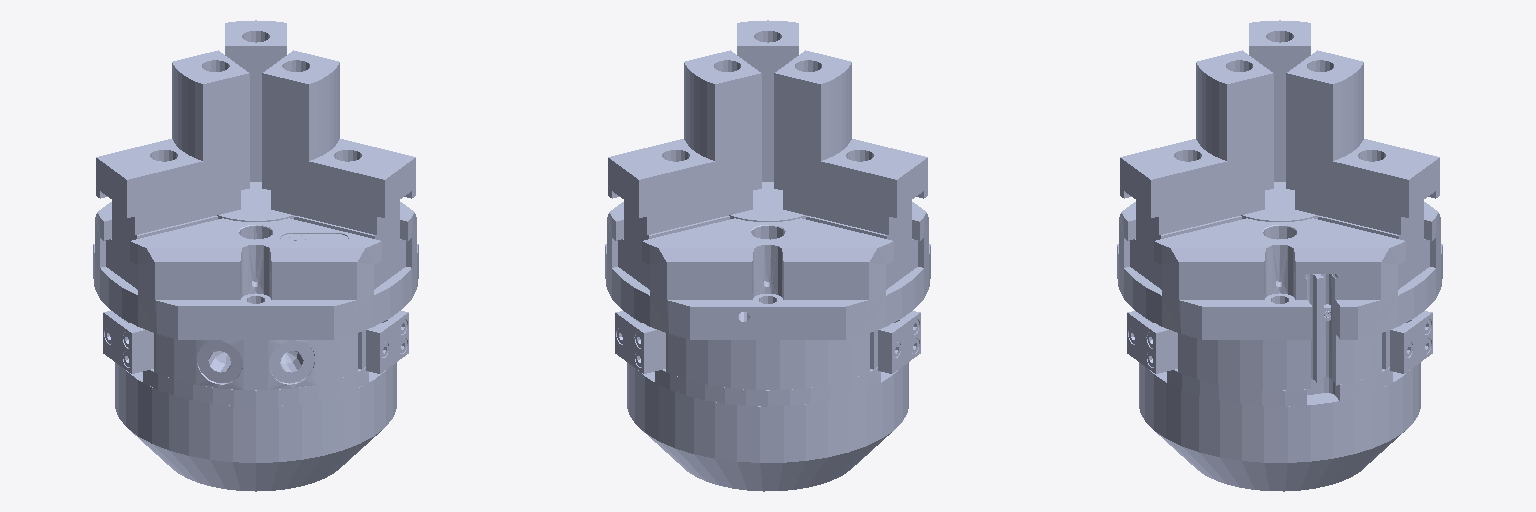
URDF robot description (Gripper2):
<?xml version="1.0"?>
<robot
  name="Gripper2">
  <link
    name="base_link">
    <inertial>
      <origin
        xyz="-0.00018381429775776 -1.12295880039248E-07 0.0491407595300528"
        rpy="0 0 0" />
      <mass
        value="0.670577926069558" />
      <inertia
        ixx="0.000364869467999578"
        ixy="-3.06546854671999E-08"
        ixz="2.0254723799717E-06"
        iyy="0.00036486341299996"
        iyz="-1.06002278351788E-07"
        izz="2.18826103188424E-05" />
    </inertial>
    <visual>
      <origin
        xyz="0 0 0"
        rpy="0 0 0" />
      <geometry>
        <mesh
          filename="package://Gripper2/meshes/base_link.STL" />
      </geometry>
      <material
        name="">
        <color
          rgba="0.792156862745098 0.819607843137255 0.933333333333333 1" />
      </material>
    </visual>
    <collision>
      <origin
        xyz="0 0 0"
        rpy="0 0 0" />
      <geometry>
        <mesh
          filename="package://Gripper2/meshes/base_link.STL" />
      </geometry>
    </collision>
  </link>
  <link
    name="Mors_prismatic1_Link">
    <inertial>
      <origin
        xyz="0.00925 0.0095206 0.0097917"
        rpy="0 0 0" />
      <mass
        value="0.05231" />
      <inertia
        ixx="1.8004E-05"
        ixy="6.4269E-20"
        ixz="-3.3881E-21"
        iyy="8.7579E-08"
        iyz="8.9191E-07"
        izz="1.7917E-05" />
    </inertial>
    <visual>
      <origin
        xyz="0 0 0"
        rpy="0 0 0" />
      <geometry>
        <mesh
          filename="package://Gripper2/meshes/Mors_prismatic1_Link.STL" />
      </geometry>
      <material
        name="">
        <color
          rgba="0.79216 0.81961 0.93333 1" />
      </material>
    </visual>
    <collision>
      <origin
        xyz="0 0 0"
        rpy="0 0 0" />
      <geometry>
        <mesh
          filename="package://Gripper2/meshes/Mors_prismatic1_Link.STL" />
      </geometry>
    </collision>
  </link>
  <joint
    name="Mors_prismatic1_joint"
    type="prismatic">
    <origin
      xyz="0.0014158 -0.020952 0.0995"
      rpy="1.5708 0 0.5236" />
    <parent
      link="base_link" />
    <child
      link="Mors_prismatic1_Link" />
    <axis
      xyz="0 0 1" />
    <limit
      lower="0"
      upper="1"
      effort="100"
      velocity="10" />
    <calibration
      rising="0"
      falling="0" />
    <dynamics
      damping="0"
      friction="0" />
    <safety_controller
      soft_upper="0"
      soft_lower="0"
      k_position="0"
      k_velocity="0" />
  </joint>
  <link
    name="Mors_prismatic2_Link">
    <inertial>
      <origin
        xyz="0.00925 0.0095206 0.0097917"
        rpy="0 0 0" />
      <mass
        value="0.05231" />
      <inertia
        ixx="1.8004E-05"
        ixy="6.9606E-20"
        ixz="-4.6684E-21"
        iyy="8.7579E-08"
        iyz="8.9191E-07"
        izz="1.7917E-05" />
    </inertial>
    <visual>
      <origin
        xyz="0 0 0"
        rpy="0 0 0" />
      <geometry>
        <mesh
          filename="package://Gripper2/meshes/Mors_prismatic2_Link.STL" />
      </geometry>
      <material
        name="">
        <color
          rgba="0.79216 0.81961 0.93333 1" />
      </material>
    </visual>
    <collision>
      <origin
        xyz="0 0 0"
        rpy="0 0 0" />
      <geometry>
        <mesh
          filename="package://Gripper2/meshes/Mors_prismatic2_Link.STL" />
      </geometry>
    </collision>
  </link>
  <joint
    name="Mors_prismatic2_joint"
    type="prismatic">
    <origin
      xyz="0.017437 0.011702 0.0995"
      rpy="1.5708 0 2.618" />
    <parent
      link="base_link" />
    <child
      link="Mors_prismatic2_Link" />
    <axis
      xyz="0 0 1" />
    <limit
      lower="0"
      upper="1"
      effort="100"
      velocity="10" />
  </joint>
  <link
    name="Mors_prismatic3_Link">
    <inertial>
      <origin
        xyz="0.00925 0.0095206 0.0097917"
        rpy="0 0 0" />
      <mass
        value="0.05231" />
      <inertia
        ixx="1.8004E-05"
        ixy="6.4586E-20"
        ixz="-4.2352E-21"
        iyy="8.7579E-08"
        iyz="8.9191E-07"
        izz="1.7917E-05" />
    </inertial>
    <visual>
      <origin
        xyz="0 0 0"
        rpy="0 0 0" />
      <geometry>
        <mesh
          filename="package://Gripper2/meshes/Mors_prismatic3_Link.STL" />
      </geometry>
      <material
        name="">
        <color
          rgba="0.79216 0.81961 0.93333 1" />
      </material>
    </visual>
    <collision>
      <origin
        xyz="0 0 0"
        rpy="0 0 0" />
      <geometry>
        <mesh
          filename="package://Gripper2/meshes/Mors_prismatic3_Link.STL" />
      </geometry>
    </collision>
  </link>
  <joint
    name="Mors_prismatic3_joint"
    type="prismatic">
    <origin
      xyz="-0.018853 0.00925 0.0995"
      rpy="1.5708 0 -1.5708" />
    <parent
      link="base_link" />
    <child
      link="Mors_prismatic3_Link" />
    <axis
      xyz="0 0 1" />
    <limit
      lower="0"
      upper="1"
      effort="100"
      velocity="10" />
    <calibration
      rising="0"
      falling="0" />
    <dynamics
      damping="0"
      friction="0" />
    <safety_controller
      soft_upper="0"
      soft_lower="0"
      k_position="0"
      k_velocity="0" />
  </joint>
</robot>

--- What the picture shows (computed from the rendered views, not written in the file) ---
3 views of the same robot in one strip: view 1: azimuth 30°, elevation 25°; view 2: azimuth 150°, elevation 25°; view 3: azimuth 270°, elevation 25° (orthographic).
Robot: Gripper2 — 4 links, 3 joints (3 prismatic); root link base_link; default pose: every joint at zero.
Visible links, largest first — view 1: base_link, Mors_prismatic1_Link, Mors_prismatic3_Link, Mors_prismatic2_Link; view 2: base_link, Mors_prismatic2_Link, Mors_prismatic3_Link, Mors_prismatic1_Link; view 3: base_link, Mors_prismatic1_Link, Mors_prismatic2_Link, Mors_prismatic3_Link.
Boxes of the visible links, box(x1,y1,x2,y2) form: base_link: box(93, 182, 418, 491); Mors_prismatic1_Link: box(262, 50, 415, 289); Mors_prismatic3_Link: box(96, 50, 249, 289); Mors_prismatic2_Link: box(225, 20, 286, 181); base_link: box(605, 182, 930, 491); Mors_prismatic2_Link: box(608, 50, 761, 289); Mors_prismatic3_Link: box(774, 50, 927, 289); Mors_prismatic1_Link: box(737, 20, 798, 181); base_link: box(1117, 182, 1442, 491); Mors_prismatic1_Link: box(1120, 50, 1273, 289); Mors_prismatic2_Link: box(1286, 50, 1439, 289); Mors_prismatic3_Link: box(1249, 20, 1310, 181).
Size in the robot's own frame: 0.1095 by 0.115 by 0.1545 metres.
4 mesh visuals loaded from 4 distinct referenced files (4 binary STL).